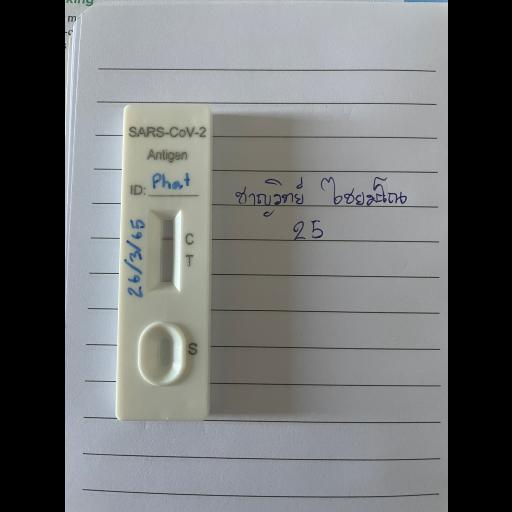Neg: (122, 104, 212, 418)
